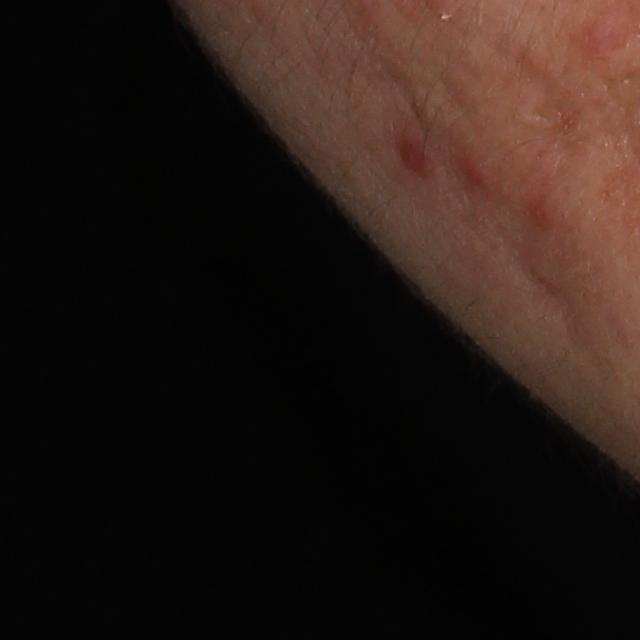papule: (445, 144, 498, 199), (514, 196, 568, 237), (398, 129, 441, 174), (581, 15, 620, 53)
